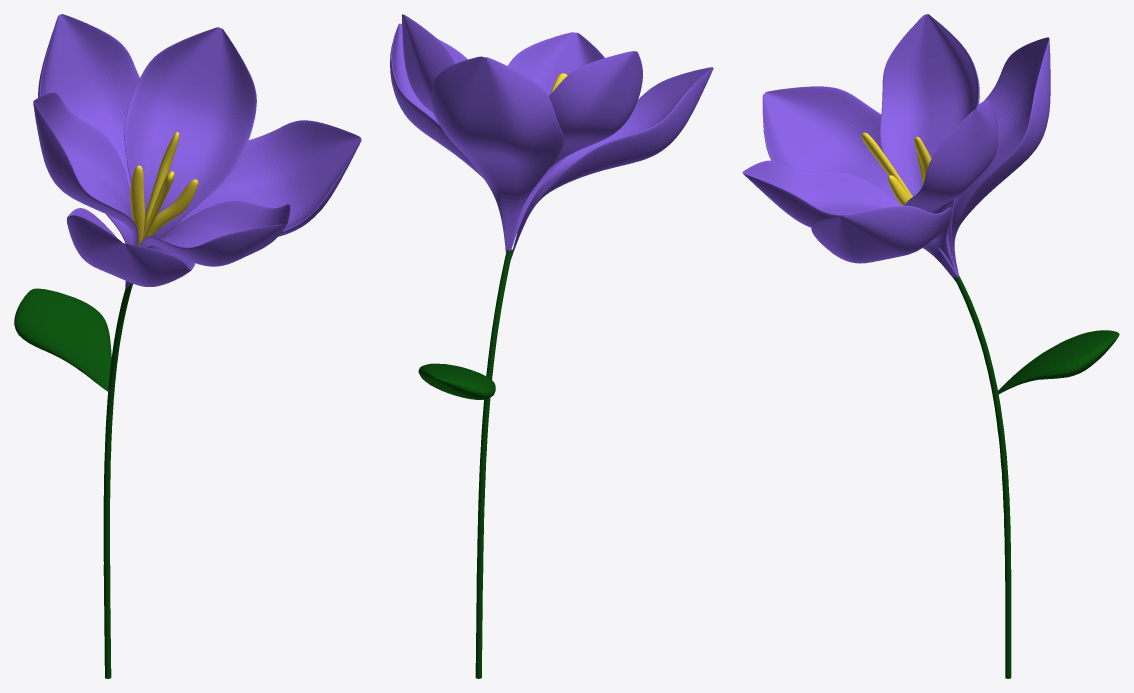
3 renders of one model, left to right at view 1: azimuth 30°, elevation 25°; view 2: azimuth 150°, elevation 25°; view 3: azimuth 270°, elevation 25°, orthographic. The views are drawn at different scales.
Parts seen in each view (by area): view 1: f01; view 2: f01; view 3: f01.
Boxes of the visible parts, <box> form: f01: <box>14,14,361,678</box>; f01: <box>390,14,713,678</box>; f01: <box>742,14,1119,678</box>.
Size of the model in its own units: 2.03 by 4.42 by 2.41.
